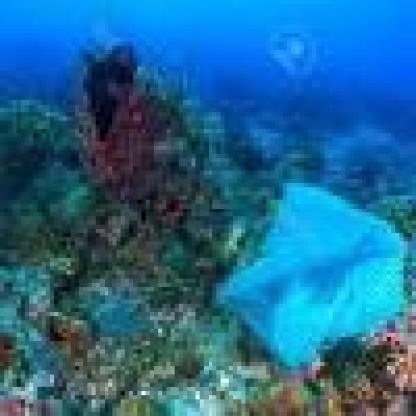pbag: (216, 179, 416, 370)
